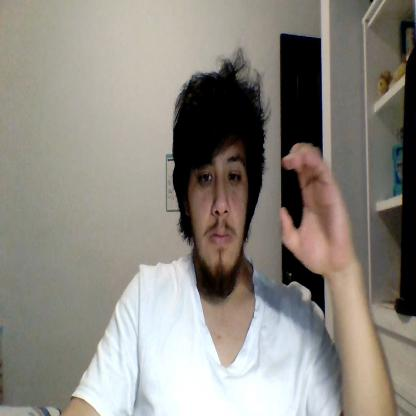C: (280, 144, 352, 273)
